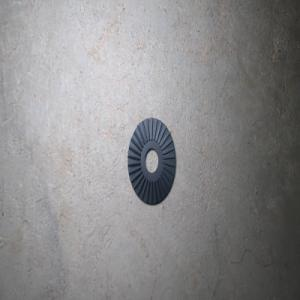Washer: (127, 117, 176, 205)
